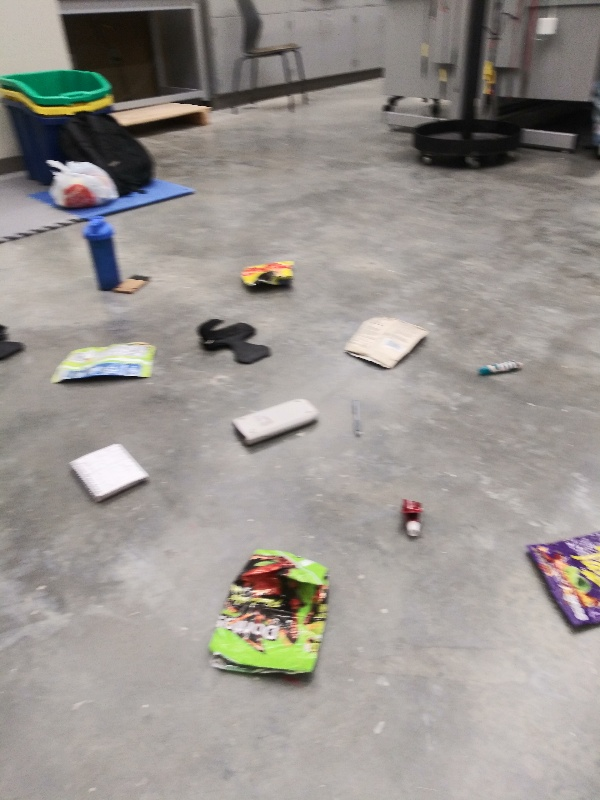bag: (202, 544, 331, 686), (521, 528, 600, 639), (46, 336, 158, 390), (341, 311, 434, 373), (235, 256, 300, 298)
